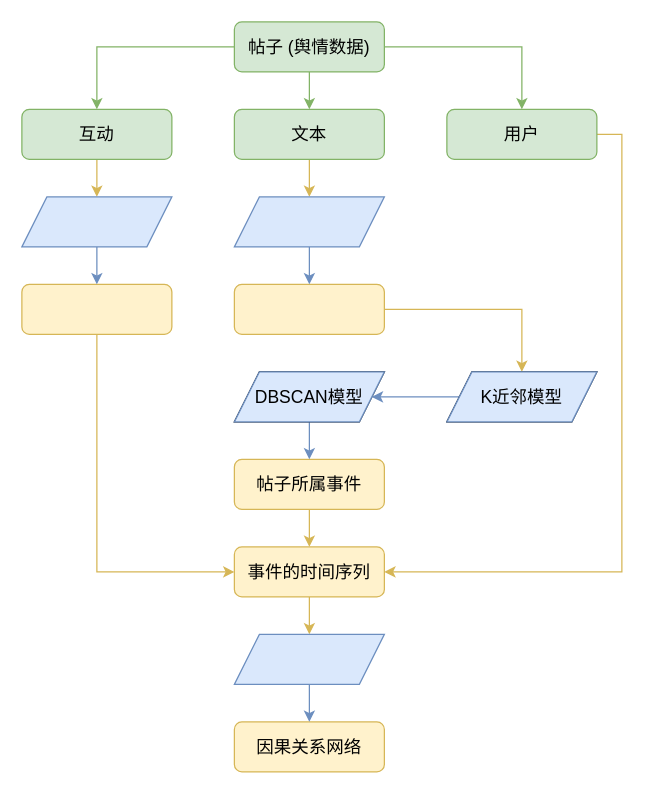
This 654x794 diagram has some shape labels left out. Each missing label, with the centre of its shape:
"BERT-3模型" goes at pixel 308 221.
"Granger因果检验" goes at pixel 308 658.
"信息熵" goes at pixel 96 221.
"影响力指标" goes at pixel 96 308.
"文本特征" goes at pixel 308 308.
